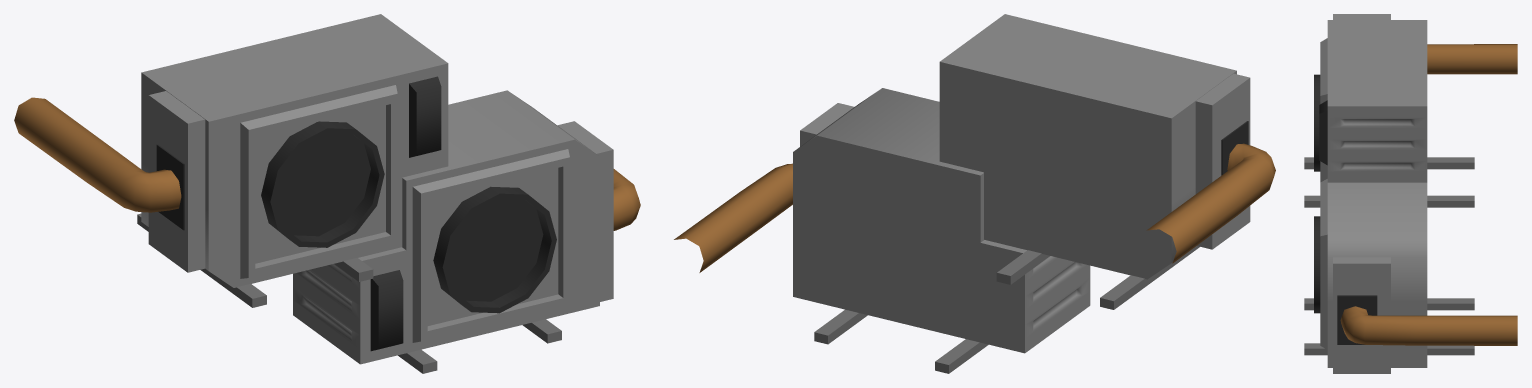
Rendered from AirConditioner.glb.
The picture shows the model from 3 angles, left to right: view 1: azimuth 30°, elevation 25°; view 2: azimuth 150°, elevation 25°; view 3: azimuth 270°, elevation 25°; orthographic projection. The views are drawn at different scales.
Parts seen in each view (by area): view 1: AC_Side; view 2: AC_Side; view 3: AC_Side.
Boxes of the visible parts, x1,y1,x2,y2 form: AC_Side: (14,14,640,373); AC_Side: (674,14,1275,373); AC_Side: (1304,14,1517,373).
Bounding box in the file's own units: 1.62 × 0.8506 × 0.7709.
